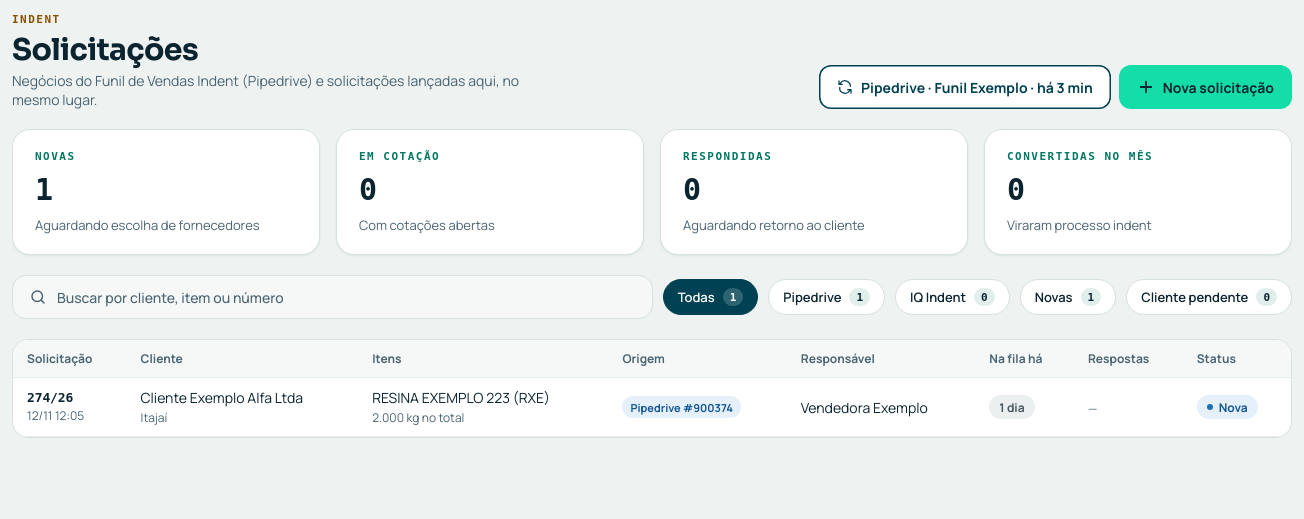
it: sincronizar pela lista › resposta 409 do backend vira alerta inline com a mensagem do servidor
This screenshot has width=1304, height=519.
What coordinates should you click on to do the following:
click the button "Pipedrive · Funil Exemplo · há 3 min"
I would click on:
 (965, 87)
Its box is [819, 65, 1111, 109].
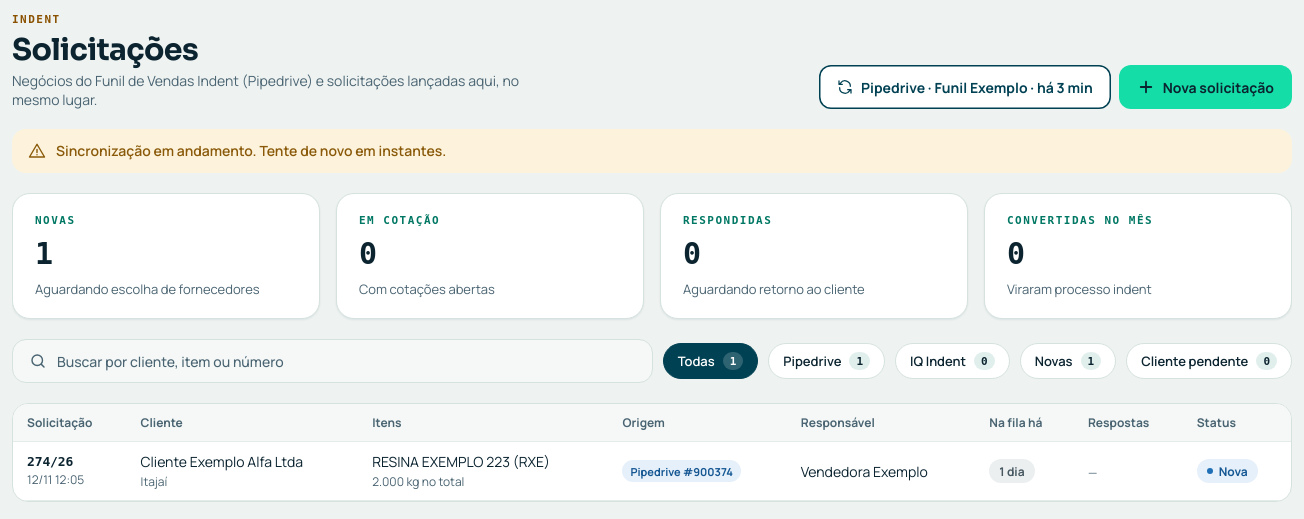
Expected: the message reads "Sincronização em andamento. Tente de novo em instantes.", [56, 141, 446, 160]
